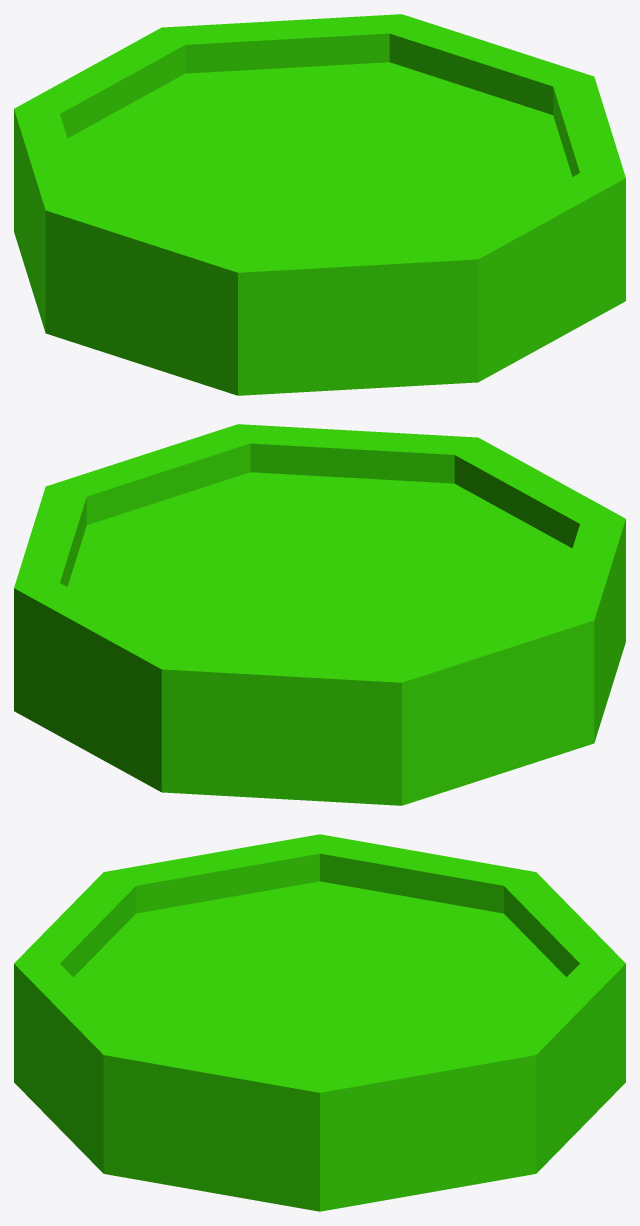
The model's file is fountain02_round_water.fbx.
3 renders of one model, top to bottom at view 1: azimuth 30°, elevation 25°; view 2: azimuth 150°, elevation 25°; view 3: azimuth 270°, elevation 25°, orthographic. The views are drawn at different scales.
Parts seen in each view (by area): view 1: fountain02_round_water; view 2: fountain02_round_water; view 3: fountain02_round_water.
Boxes of the visible parts, box(x1,y1,x2,y2) form: fountain02_round_water: box(14, 14, 625, 395); fountain02_round_water: box(14, 424, 625, 805); fountain02_round_water: box(14, 834, 625, 1211).
Bounding box in the file's own units: 280 × 60 × 280.
